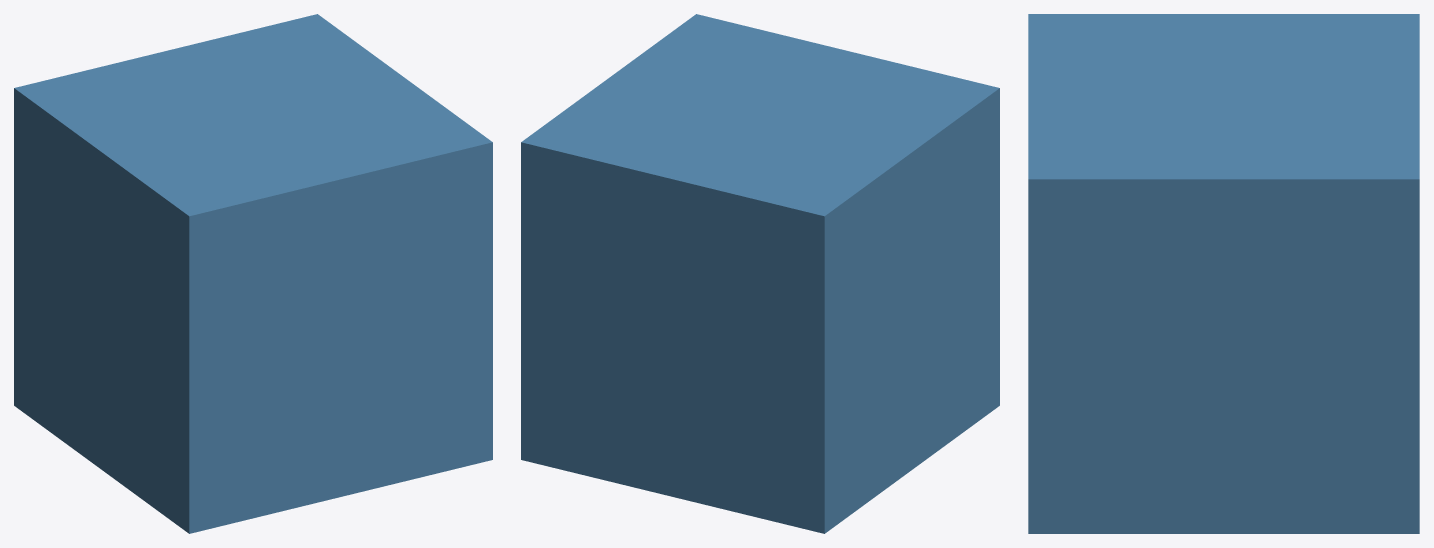
File: Water_Full.glb
3 views of the same model, side by side, from view 1: azimuth 30°, elevation 25°; view 2: azimuth 150°, elevation 25°; view 3: azimuth 270°, elevation 25° (orthographic). The views are drawn at different scales.
Visible parts, largest first — view 1: Water_Full_body; view 2: Water_Full_body; view 3: Water_Full_body.
Boxes of the visible parts, x1,y1,x2,y2 form: Water_Full_body: (14, 14, 492, 533); Water_Full_body: (521, 14, 999, 533); Water_Full_body: (1028, 14, 1419, 533).
Size of the model in its own units: 1 by 1 by 1.
